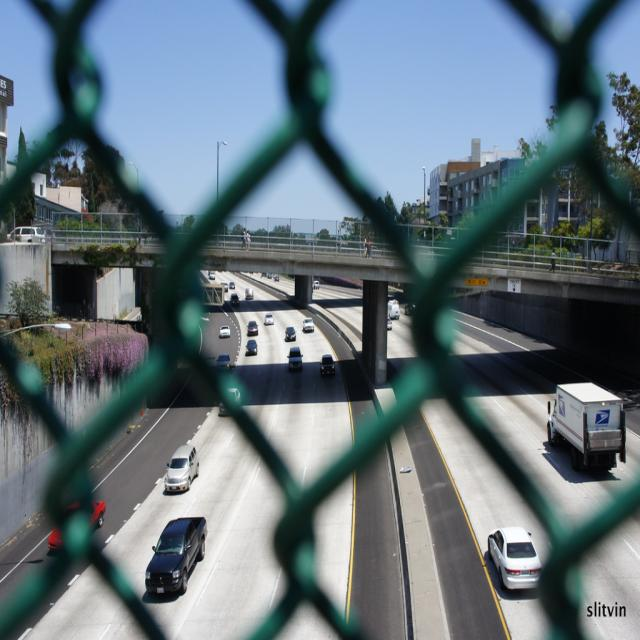car: (165, 442, 199, 490), (244, 339, 254, 356), (220, 323, 230, 338), (285, 325, 295, 339), (262, 311, 272, 322), (248, 322, 257, 334), (304, 318, 312, 330)
